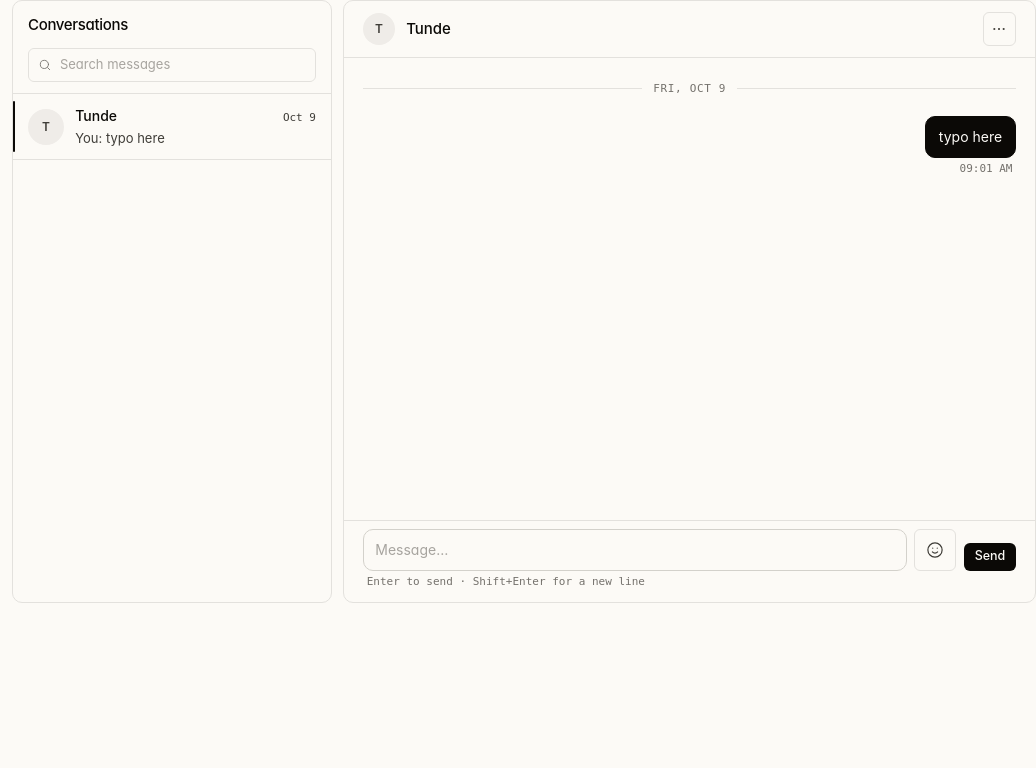
Test case: edit and delete (owner ruling 2) › edits inline within the window and shows Edited
The image size is (1036, 768).
Right-click the text "typo here" at [970, 137], box [925,116,1016,158]
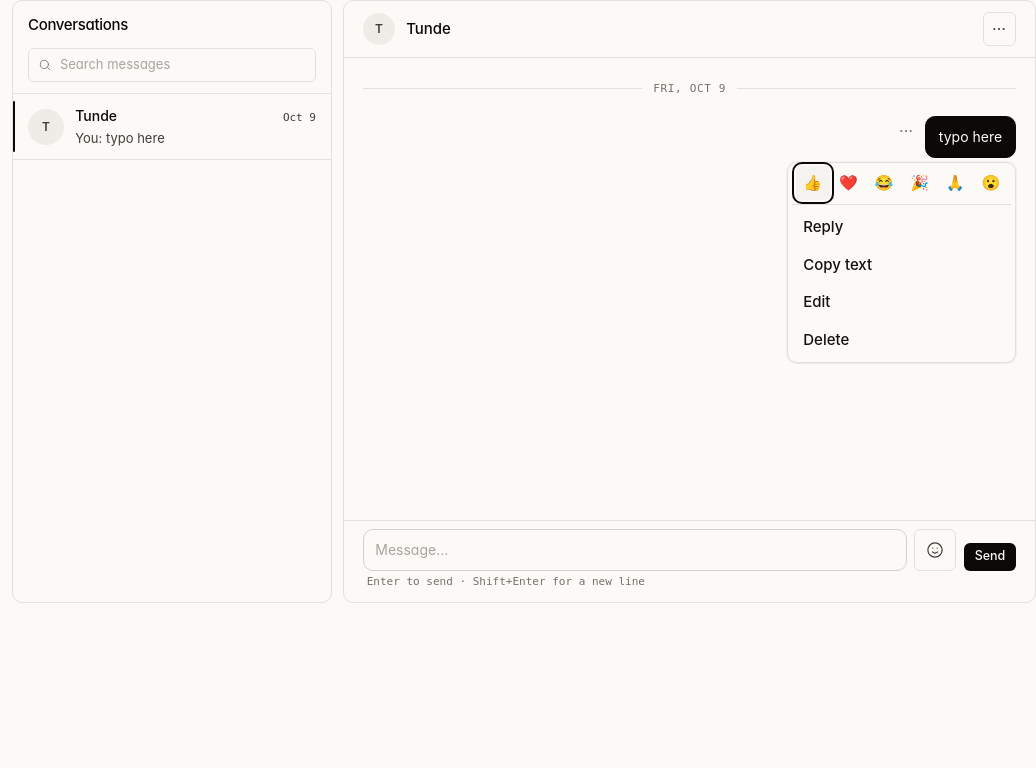
Click the menu item "Edit". click: [902, 302]
box: [792,284,1011,321]
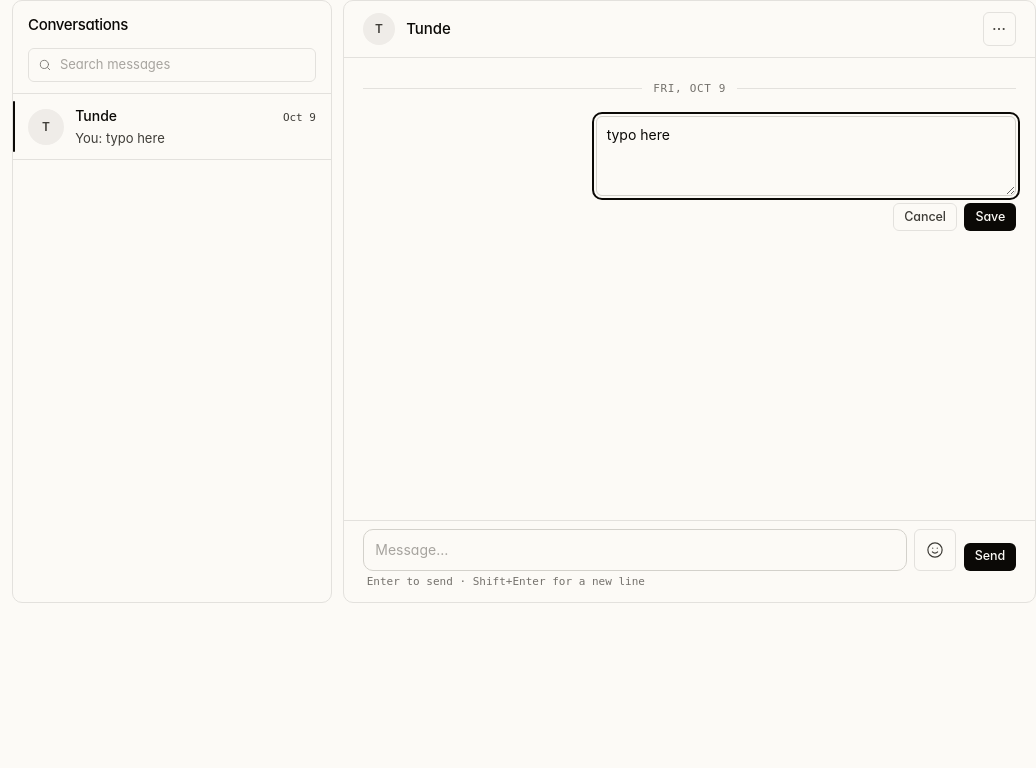
Replace the text in the text box named "Edit message" with "fixed now". click: [806, 156]
box: [596,116,1016,196]
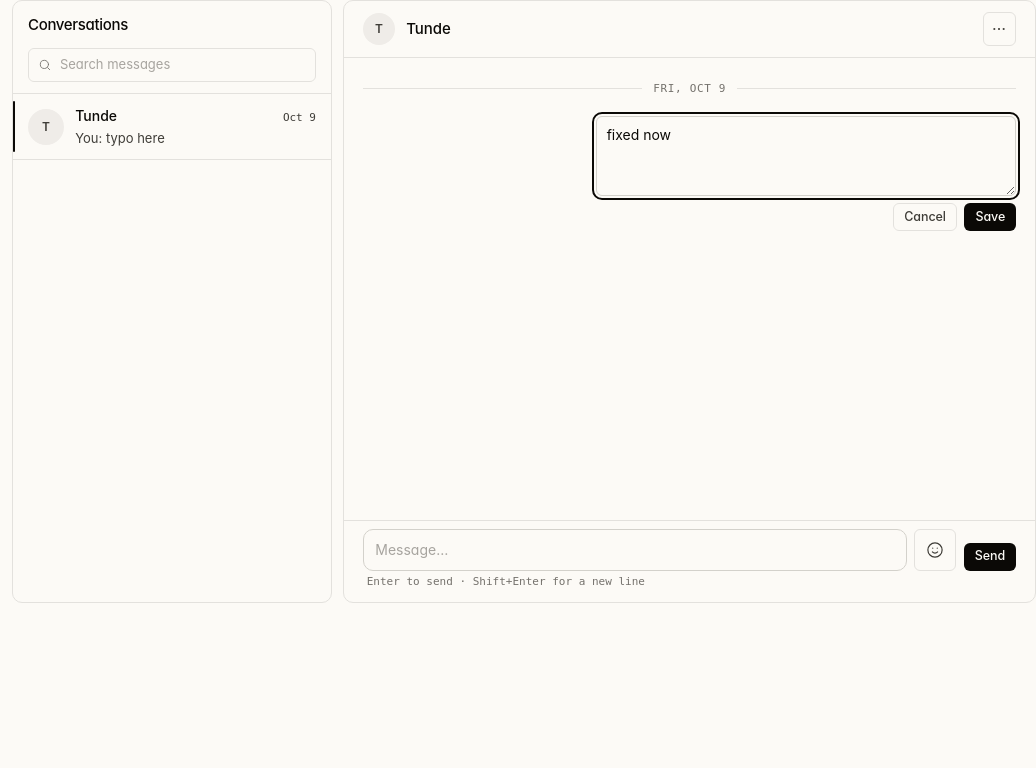
Press Enter in the text box named "Edit message", box [596,116,1016,196]
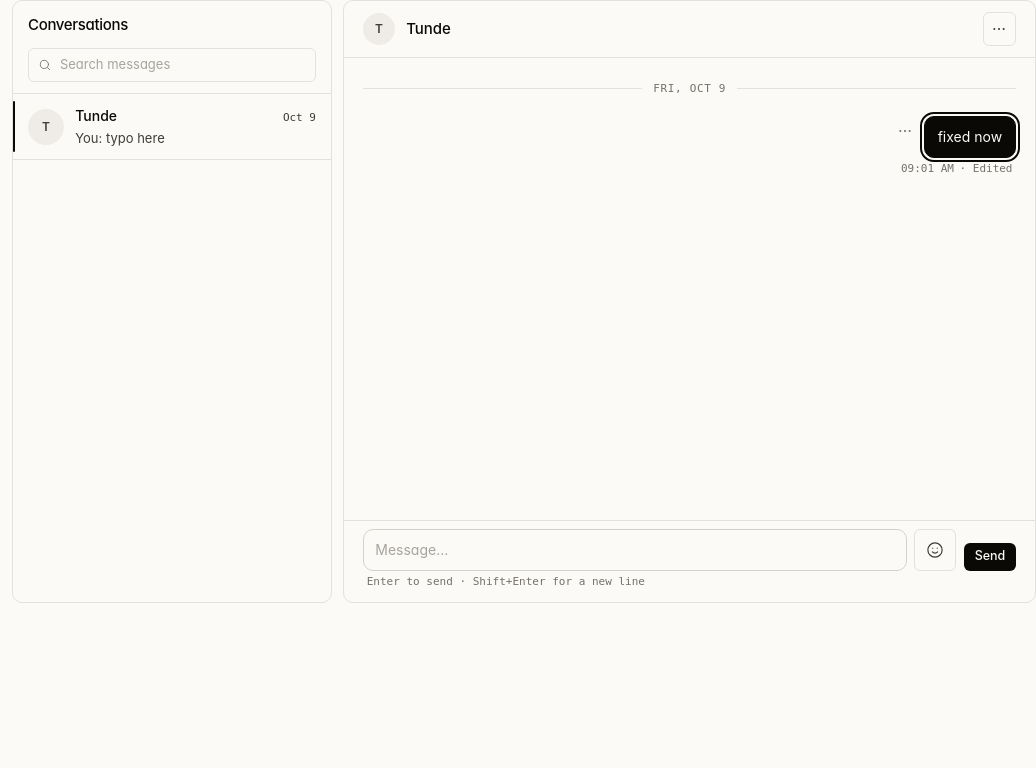
expect the text "fixed now" is shown: met, box [924,116,1016,158]
expect the text "· Edited" is shown: met, box [960,161,1012,178]
